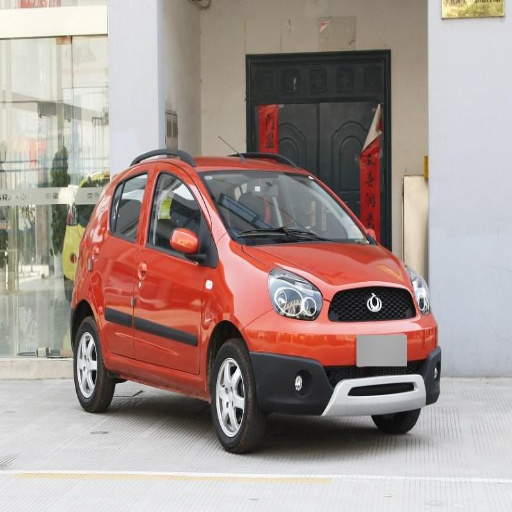front_bumper: (249, 285, 436, 419)
front_right_door: (135, 159, 211, 375)
front_right_light: (268, 271, 323, 320)
